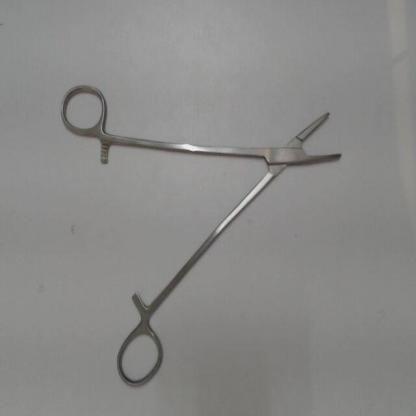8 Mayo Needle Holder: (53, 76, 354, 396)
